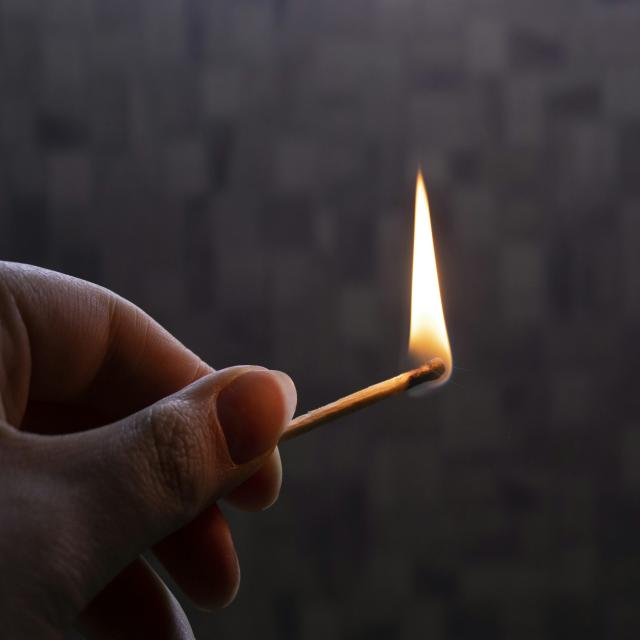fire: (407, 168, 453, 392)
